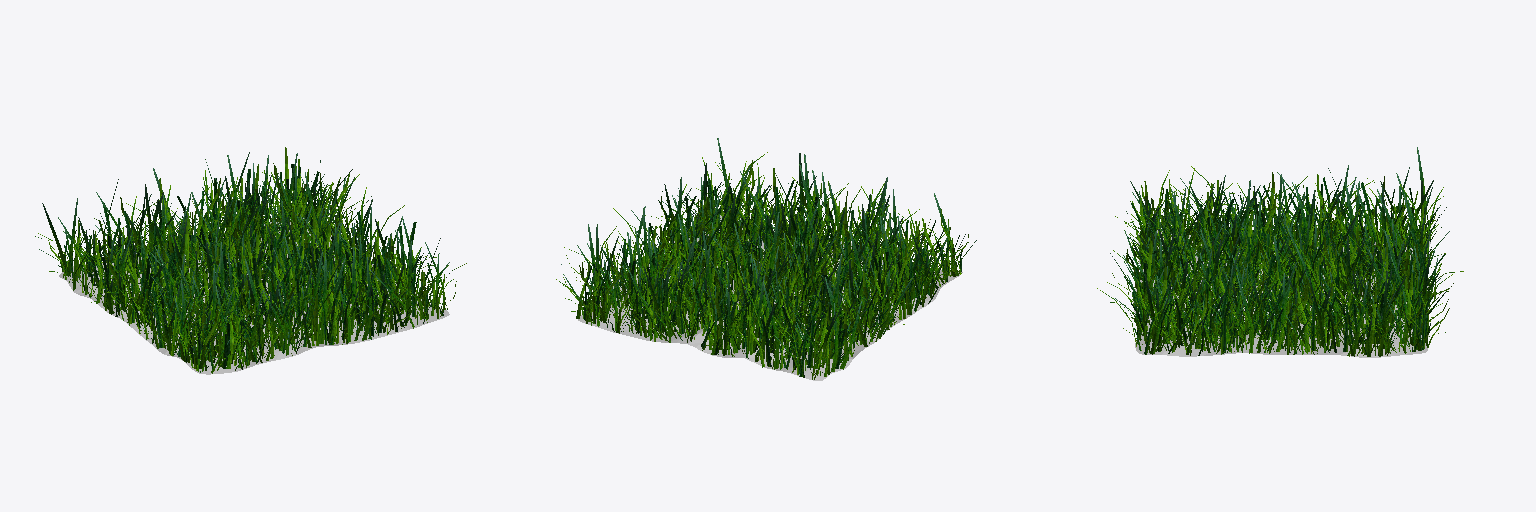
3 views of the same model, side by side, from view 1: azimuth 30°, elevation 25°; view 2: azimuth 150°, elevation 25°; view 3: azimuth 270°, elevation 25° (orthographic).
Visible parts, largest first — view 1: Ground_Plane; view 2: Ground_Plane; view 3: Ground_Plane.
Boxes of the visible parts, <box> form: Ground_Plane: <box>59,218,449,374</box>; Ground_Plane: <box>578,215,962,380</box>; Ground_Plane: <box>1133,230,1430,357</box>.
Bounding box in the file's own units: 298 × 83.55 × 309.
Materials: 2 (1 with a texture image).